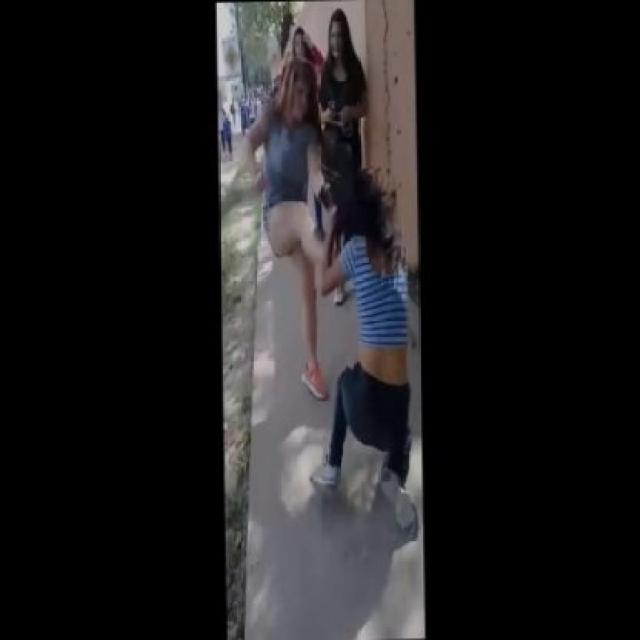fight: (230, 49, 423, 544)
